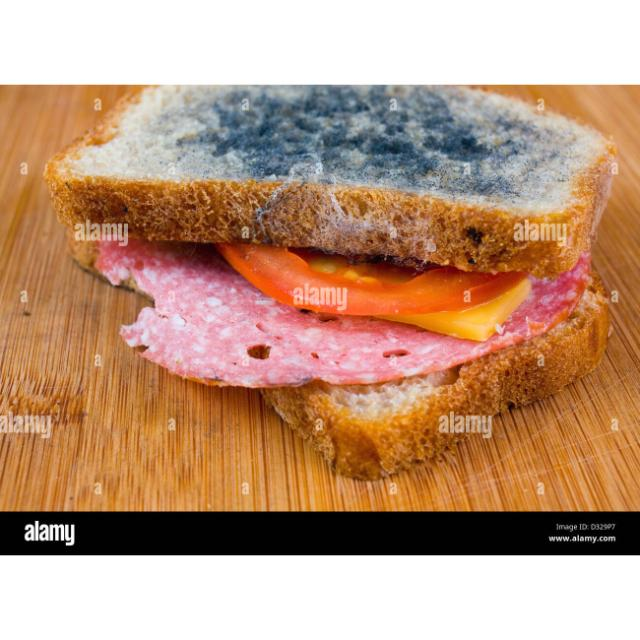organic: (44, 85, 619, 487)
